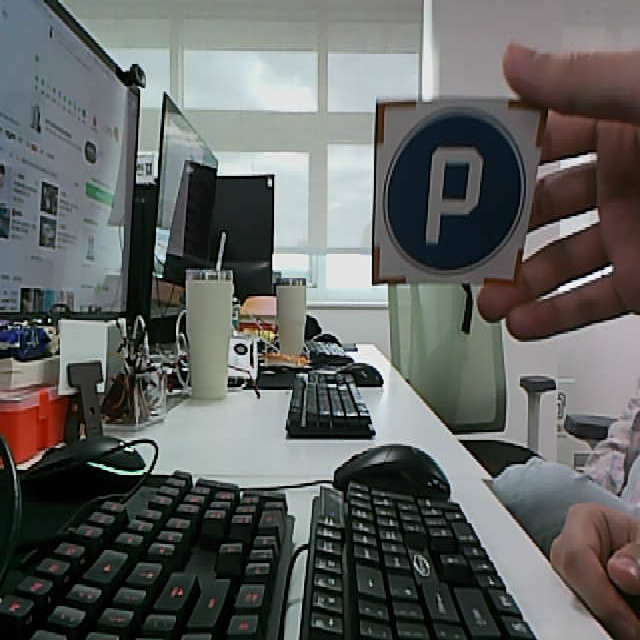parking: (372, 98, 548, 288)
